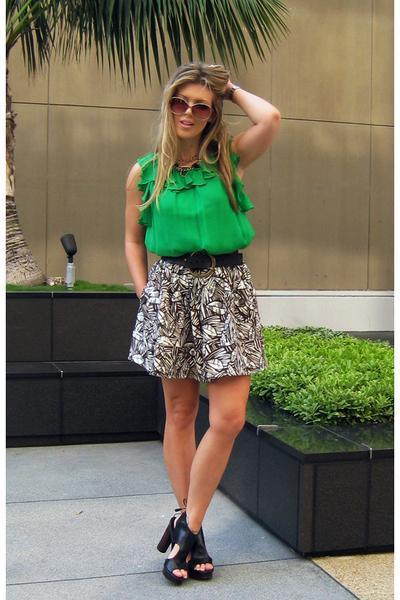shirt: (137, 160, 253, 254)
shoe: (147, 511, 215, 586)
skirt: (128, 264, 266, 385)
sunglass: (168, 85, 195, 115)
